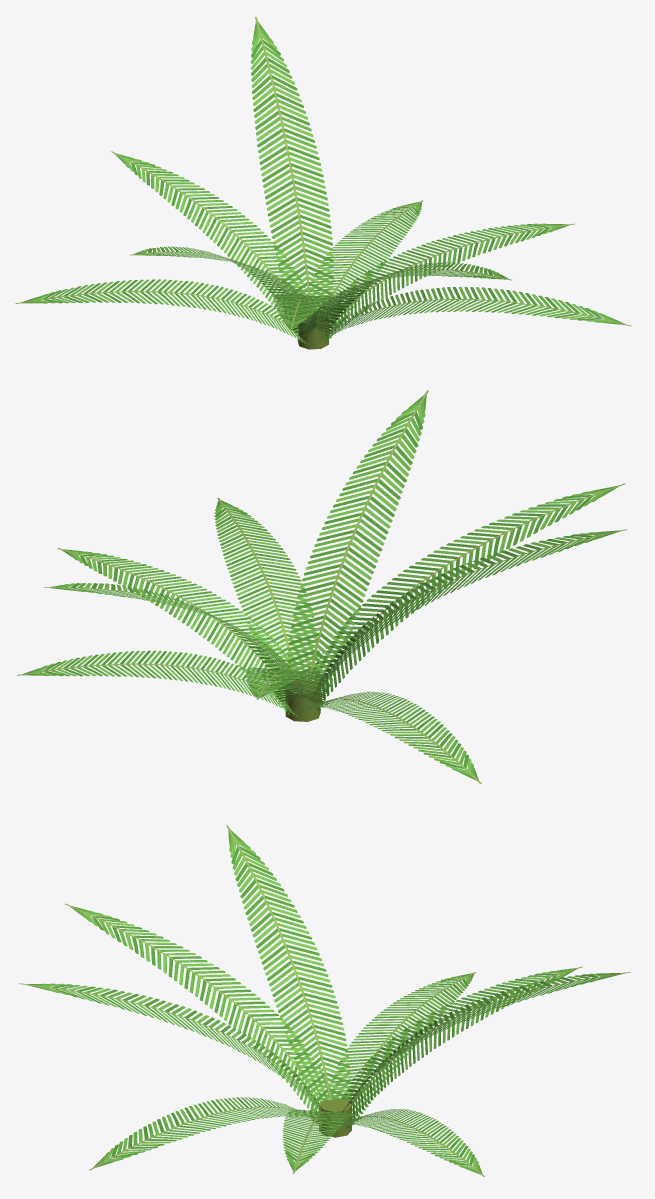
The model's file is dua_nuoc_1.glb.
The picture shows the model from 3 angles, top to bottom: view 1: azimuth 30°, elevation 25°; view 2: azimuth 150°, elevation 25°; view 3: azimuth 270°, elevation 25°; orthographic projection. The views are drawn at different scales.
Visible parts, largest first — view 1: dua_nuoc_1; view 2: dua_nuoc_1; view 3: dua_nuoc_1.
Part boxes in pixels (box(x1,y1,x2,y2)): dua_nuoc_1: box(15, 17, 631, 349); dua_nuoc_1: box(17, 390, 627, 783); dua_nuoc_1: box(19, 825, 629, 1176).
Size of the model in its own units: 2.46 by 0.9493 by 2.67.
Materials: 2 (1 with a texture image).
